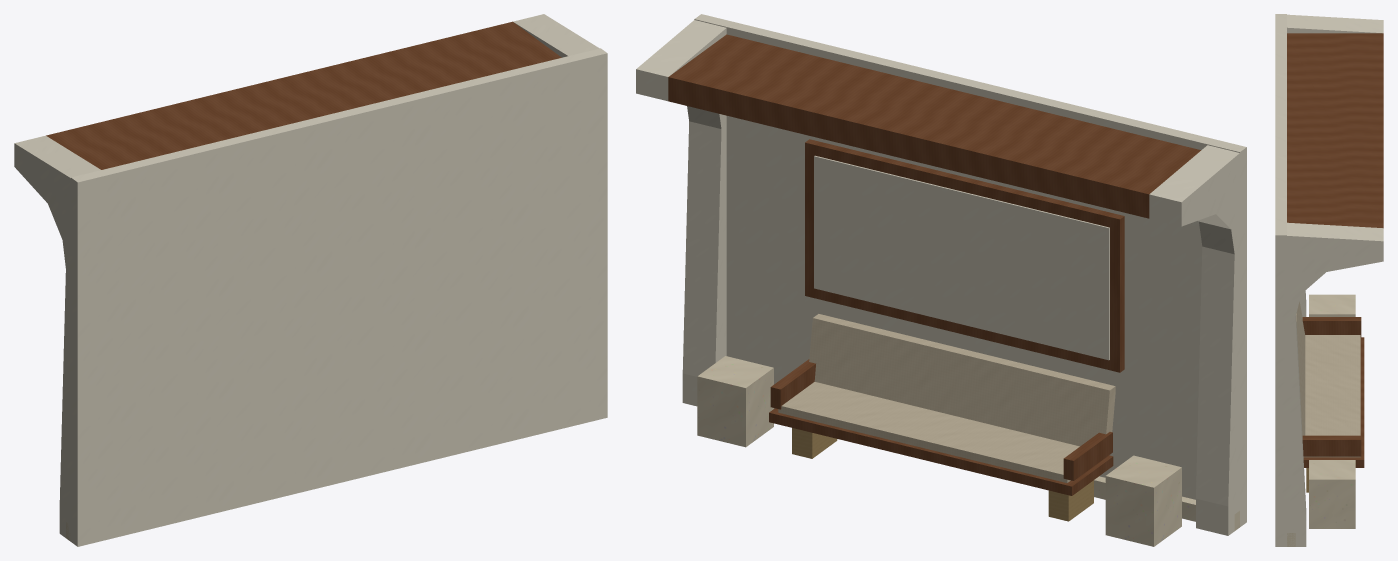
Rendered from AST-RES-001.glb.
The picture shows the model from 3 angles, left to right: view 1: azimuth 30°, elevation 25°; view 2: azimuth 150°, elevation 25°; view 3: azimuth 270°, elevation 25°; orthographic projection. The views are drawn at different scales.
Parts seen in each view (by area): view 1: RES_SolidBack, RES_Canopy, RES_RolledSide_0, RES_RolledSide_1; view 2: RES_SolidBack, RES_MapBacking, RES_Canopy, RES_SlopedBenchBack, RES_RolledSide_0, RES_RolledSide_1, RES_MapFrame, RES_SeatCushion, RES_PlantPlinth_0, RES_PlantPlinth_1, RES_SeatFrame, RES_ReturnedArm_1.2 (+3 smaller); view 3: RES_Canopy, RES_RolledSide_1, RES_SolidBack, RES_SeatCushion, RES_PlantPlinth_1, RES_RolledSide_0, RES_ReturnedArm_4.1, RES_PlantPlinth_0, RES_ReturnedArm_1.2, RES_SeatFrame, RES_SlopedBenchBack.
Part boxes in pixels (x1=…): RES_SolidBack: x1=71, y1=48, x2=607, y2=546; RES_Canopy: x1=46, y1=21, x2=561, y2=169; RES_RolledSide_0: x1=14, y1=135, x2=109, y2=546; RES_RolledSide_1: x1=513, y1=14, x2=607, y2=424; RES_SolidBack: x1=694, y1=14, x2=1246, y2=526; RES_MapBacking: x1=814, y1=155, x2=1109, y2=360; RES_Canopy: x1=668, y1=34, x2=1200, y2=218; RES_SlopedBenchBack: x1=809, y1=314, x2=1115, y2=446; RES_RolledSide_0: x1=1149, y1=145, x2=1246, y2=535; RES_RolledSide_1: x1=636, y1=20, x2=726, y2=406; RES_MapFrame: x1=805, y1=139, x2=1124, y2=372; RES_SeatCushion: x1=778, y1=382, x2=1079, y2=482; RES_PlantPlinth_0: x1=1105, y1=455, x2=1181, y2=546; RES_PlantPlinth_1: x1=697, y1=356, x2=773, y2=447; RES_SeatFrame: x1=769, y1=408, x2=1113, y2=495; RES_ReturnedArm_1.2: x1=1063, y1=432, x2=1112, y2=480; RES_Canopy: x1=1287, y1=33, x2=1383, y2=228; RES_RolledSide_1: x1=1275, y1=222, x2=1383, y2=546; RES_SolidBack: x1=1275, y1=14, x2=1286, y2=546; RES_SeatCushion: x1=1304, y1=335, x2=1360, y2=457; RES_PlantPlinth_1: x1=1309, y1=460, x2=1355, y2=528; RES_RolledSide_0: x1=1287, y1=14, x2=1383, y2=316; RES_ReturnedArm_4.1: x1=1302, y1=435, x2=1361, y2=456; RES_PlantPlinth_0: x1=1309, y1=294, x2=1355, y2=316; RES_ReturnedArm_1.2: x1=1302, y1=317, x2=1361, y2=337; RES_SeatFrame: x1=1303, y1=337, x2=1364, y2=467; RES_SlopedBenchBack: x1=1296, y1=301, x2=1305, y2=436.
Bounding box in the file's own units: 5.4 × 3.55 × 1.12.
Materials: 6 (5 with a texture image).
